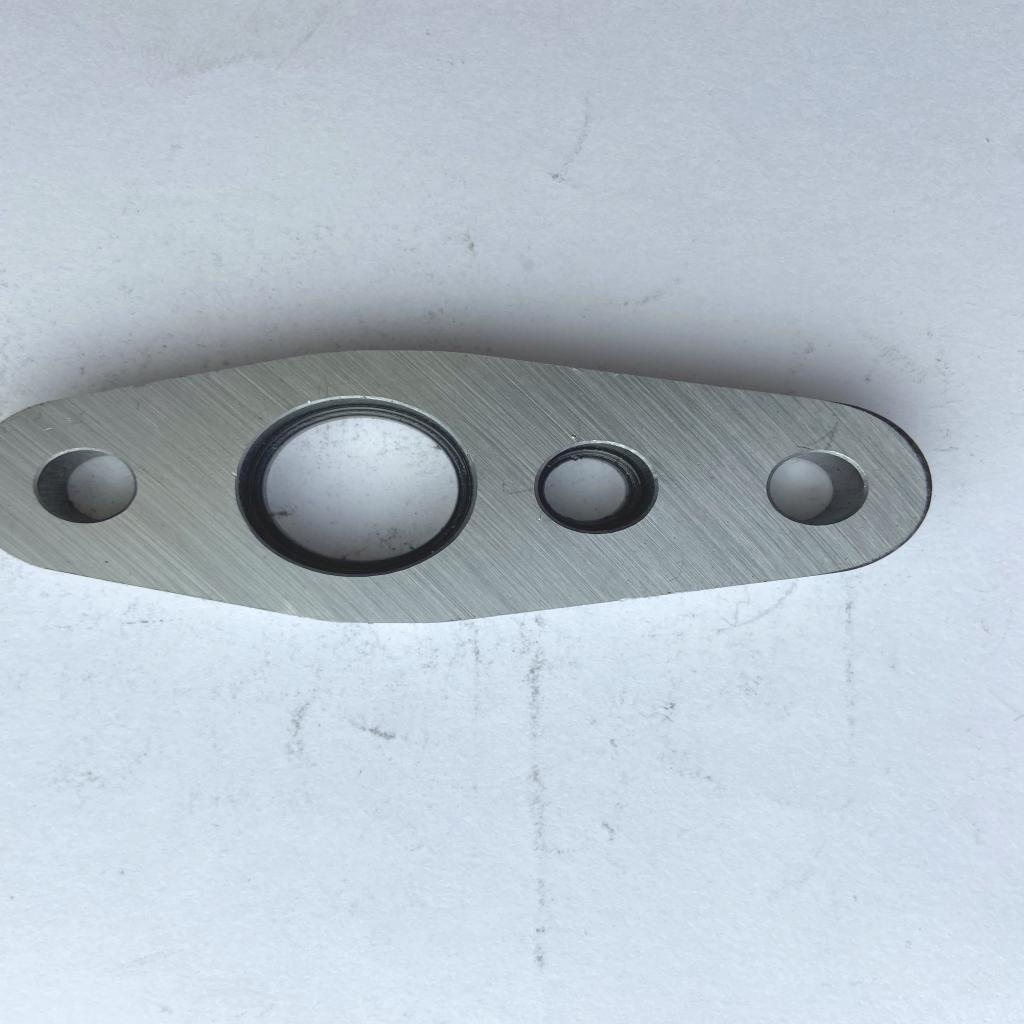chap: (791, 442, 819, 451), (40, 424, 58, 435), (531, 514, 546, 526), (224, 470, 241, 480), (567, 430, 581, 441), (304, 396, 318, 406), (63, 415, 75, 424)
lines: (502, 485, 537, 500)
